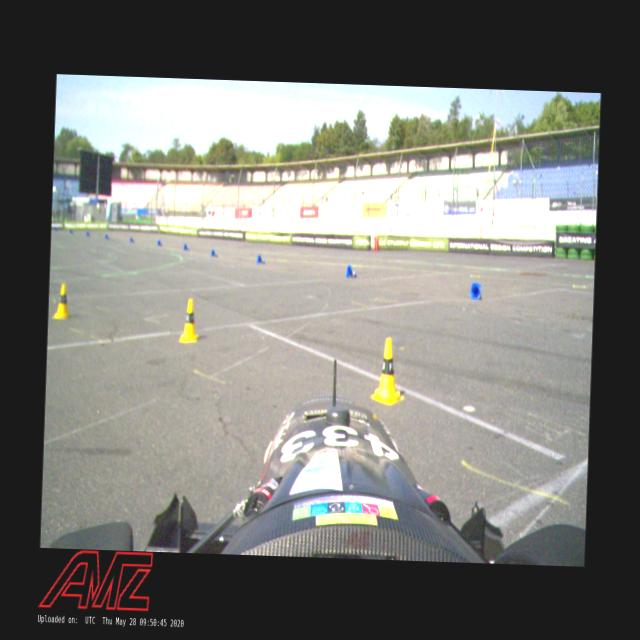blue_cone: (469, 282, 482, 300), (345, 264, 357, 278), (256, 253, 264, 265), (210, 248, 218, 258), (182, 243, 189, 250)
yellow_cone: (370, 334, 407, 408), (178, 297, 200, 343), (52, 282, 72, 320)
